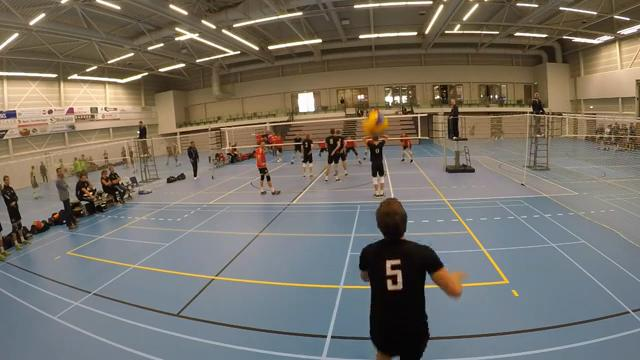battuta: (349, 192, 472, 359)
